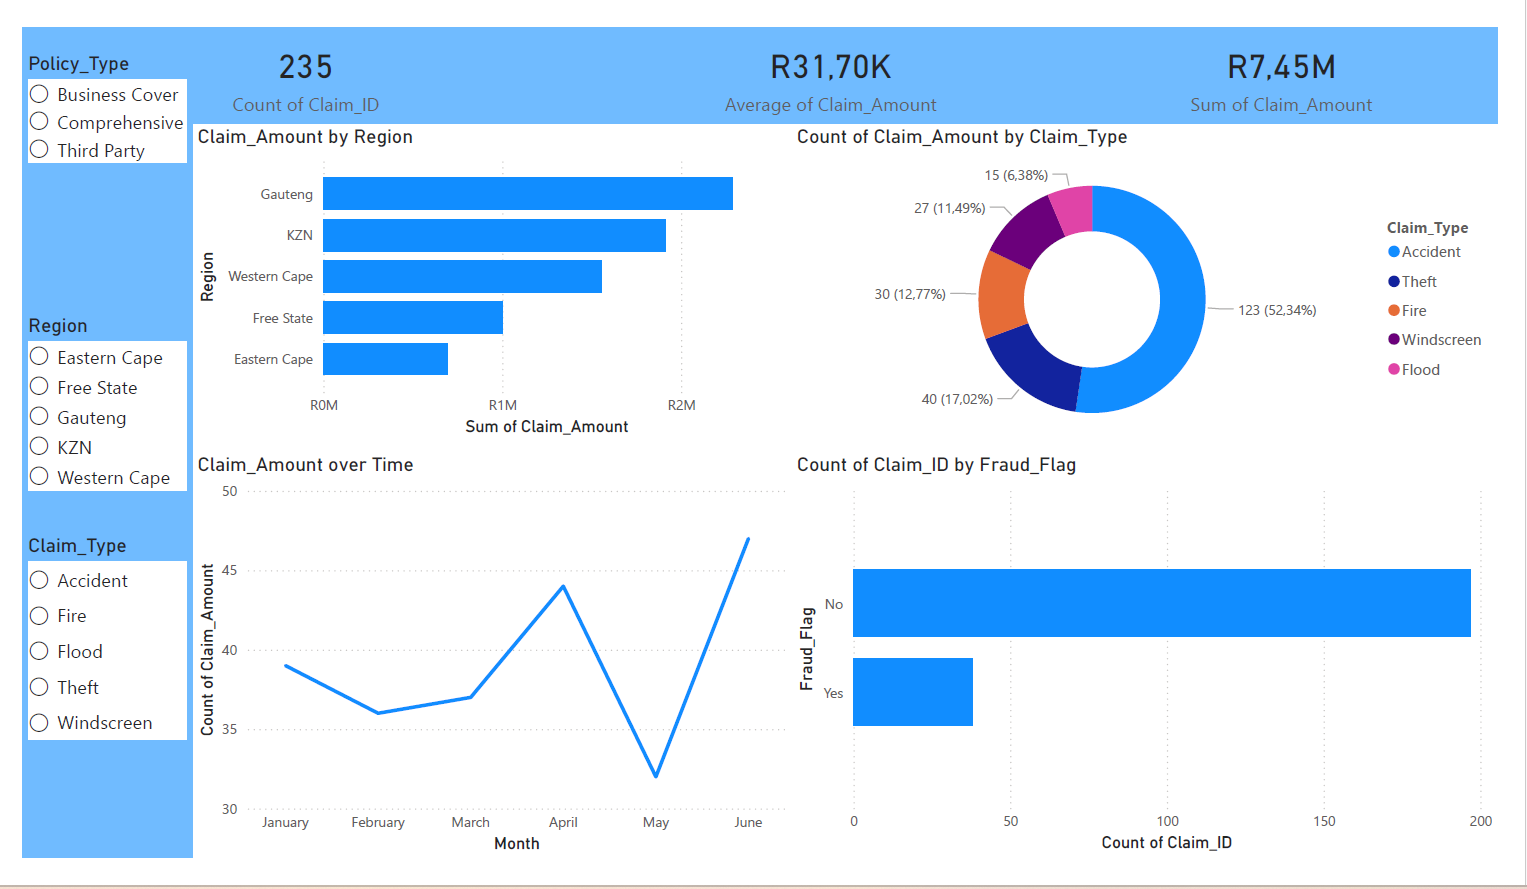

Layout of this report page (visuals, bound fields, positions):
{"tool":"powerbi","page":{"name":"Page 1","canvas":[1280,720],"ordinal":0},"visuals":[{"type":"card","fields":{"Values":["CountNonNull(insurance_claims (2).Claim_ID)"]},"box":[0,0,492.2,84.2],"z":0},{"type":"card","fields":{"Values":["Avg(insurance_claims (2).Claim_Amount)"]},"box":[474.4,0,455,84.2],"z":1000},{"type":"card","fields":{"Values":["Sum(insurance_claims (2).Claim_Amount)"]},"box":[903.5,0,377.3,84.2],"z":2000},{"type":"barChart","title":"Claim_Amount by Region","fields":{"Y":["Sum(insurance_claims (2).Claim_Amount)"],"Category":["insurance_claims (2).Region"]},"box":[147.3,84.2,519.8,275.3],"z":3000},{"type":"lineChart","title":"Claim_Amount over Time","fields":{"Y":["Sum(insurance_claims (2).Claim_Amount)"],"Category":["insurance_claims (2).Date.Variation.Date Hierarchy.Month"]},"box":[147.3,369.2,519.8,351.4],"z":4000},{"type":"donutChart","fields":{"Category":["insurance_claims (2).Claim_Type"],"Y":["CountNonNull(insurance_claims (2).Claim_Amount)"]},"box":[667.1,84.2,613.7,285],"z":5000},{"type":"barChart","fields":{"Category":["insurance_claims (2).Fraud_Flag"],"Y":["CountNonNull(insurance_claims (2).Claim_ID)"]},"box":[667,369,613,351],"z":6000},{"type":"listSlicer","fields":{"Values":["insurance_claims (2).Policy_Type"]},"box":[0,41.7,146.7,226.7],"z":7000},{"type":"listSlicer","fields":{"Values":["insurance_claims (2).Region"]},"box":[0,248.3,146.7,190],"z":8000},{"type":"listSlicer","fields":{"Values":["insurance_claims (2).Claim_Type"]},"box":[0,438.3,146.7,281.7],"z":9000}]}

Visuals, with their boxes in screenshot pixels (x1, y1, x2, y2):
card - CountNonNull(insurance_claims (2).Claim_ID): locate(16, 24, 595, 123)
card - Avg(insurance_claims (2).Claim_Amount): locate(574, 24, 1109, 123)
card - Sum(insurance_claims (2).Claim_Amount): locate(1079, 24, 1523, 123)
"Claim_Amount by Region" barChart: locate(189, 123, 801, 447)
"Claim_Amount over Time" lineChart: locate(189, 458, 801, 872)
donutChart - insurance_claims (2).Claim_Type x CountNonNull(insurance_claims (2).Claim_Amount): locate(801, 123, 1523, 458)
barChart - insurance_claims (2).Fraud_Flag x CountNonNull(insurance_claims (2).Claim_ID): locate(801, 458, 1522, 871)
listSlicer - insurance_claims (2).Policy_Type: locate(16, 73, 188, 340)
listSlicer - insurance_claims (2).Region: locate(16, 316, 188, 540)
listSlicer - insurance_claims (2).Claim_Type: locate(16, 540, 188, 871)
